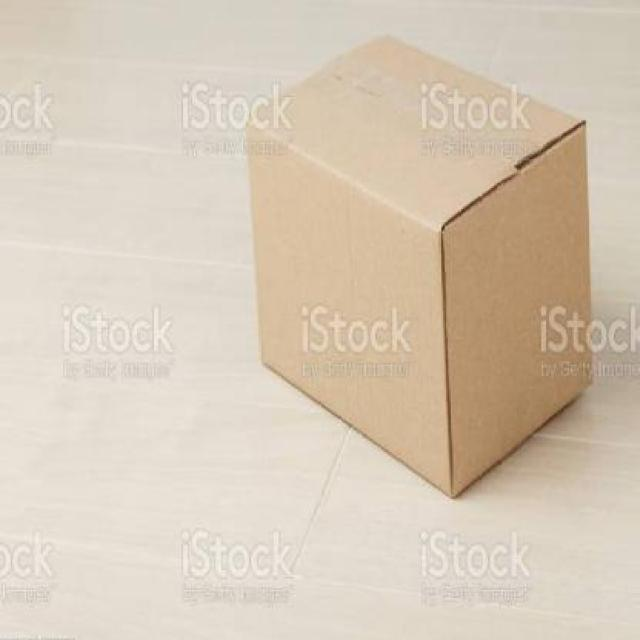box: (243, 16, 611, 554)
